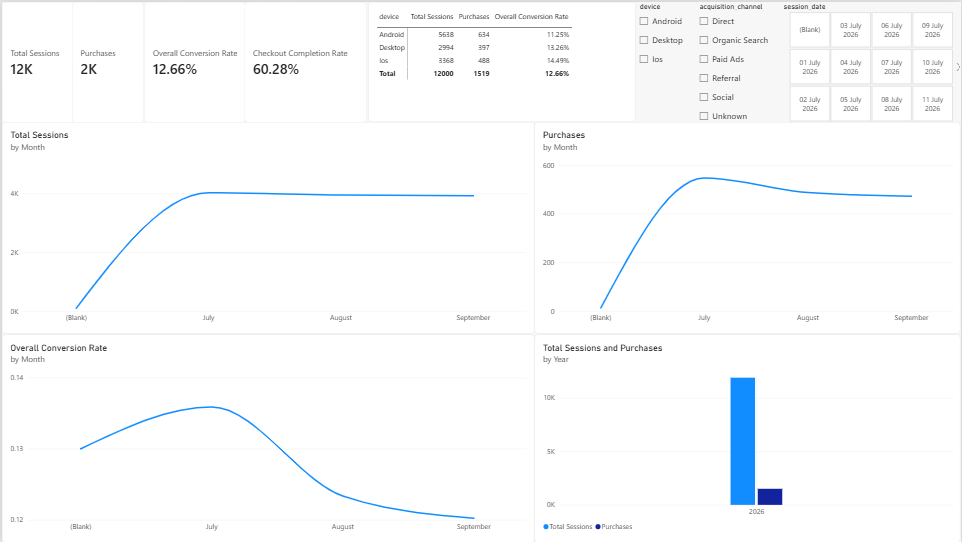

This screenshot's page, from the dashboard's own definition file:
{"tool":"powerbi","page":{"name":"Trend & Diagnostics","canvas":[1920,1080],"ordinal":3},"visuals":[{"type":"cardVisual","fields":{"Data":["SessionFunnel.Total Sessions"]},"box":[0,0,149.1,241.1],"z":0},{"type":"cardVisual","fields":{"Data":["SessionFunnel.Purchases"]},"box":[140,0,144,242],"z":1000},{"type":"cardVisual","fields":{"Data":["SessionFunnel.Overall Conversion Rate"]},"box":[284,0,202.5,241.1],"z":2000},{"type":"cardVisual","fields":{"Data":["SessionFunnel.Checkout Completion Rate"]},"box":[486,0,244.8,241.1],"z":3000},{"type":"lineChart","fields":{"Category":["sessions_clean.session_date.Variation.Date Hierarchy.Month","sessions_clean.session_date.Variation.Date Hierarchy.Day"],"Y":["SessionFunnel.Total Sessions"]},"box":[0,241.1,1065.6,423.3],"z":4000},{"type":"lineChart","fields":{"Category":["sessions_clean.session_date.Variation.Date Hierarchy.Month","sessions_clean.session_date.Variation.Date Hierarchy.Day"],"Y":["SessionFunnel.Overall Conversion Rate"]},"box":[0,664.4,1065.6,416],"z":5000},{"type":"lineChart","fields":{"Category":["sessions_clean.session_date.Variation.Date Hierarchy.Month","sessions_clean.session_date.Variation.Date Hierarchy.Day"],"Y":["SessionFunnel.Purchases"]},"box":[1065.6,241.1,854,423.3],"z":6000},{"type":"clusteredColumnChart","fields":{"Category":["sessions_clean.session_date.Variation.Date Hierarchy.Year","sessions_clean.session_date.Variation.Date Hierarchy.Quarter","sessions_clean.session_date.Variation.Date Hierarchy.Month","sessions_clean.session_date.Variation.Date Hierarchy.Day"],"Y":["SessionFunnel.Total Sessions","SessionFunnel.Purchases"]},"box":[1065.6,664.4,854,416],"z":7000},{"type":"pivotTable","fields":{"Rows":["SessionFunnel.device"],"Values":["SessionFunnel.Total Sessions","SessionFunnel.Purchases","SessionFunnel.Overall Conversion Rate"]},"box":[732.5,0,535,240],"z":8000},{"type":"slicer","fields":{"Values":["sessions_clean.session_date"]},"box":[1555,0,365,240],"z":8001},{"type":"slicer","fields":{"Values":["funnel_events_clean.device"]},"box":[1267.5,0,119.6,149.1],"z":8002},{"type":"slicer","fields":{"Values":["SessionFunnel.acquisition_channel"]},"box":[1388,0,167.5,265],"z":8003}]}

Visuals, with their boxes in screenshot pixels (x1, y1, x2, y2), scaled from the page's 1920x1080 canvas onto the 962x542 screenshot:
cardVisual - SessionFunnel.Total Sessions: box=[0, 0, 75, 121]
cardVisual - SessionFunnel.Purchases: box=[70, 0, 142, 121]
cardVisual - SessionFunnel.Overall Conversion Rate: box=[142, 0, 244, 121]
cardVisual - SessionFunnel.Checkout Completion Rate: box=[244, 0, 366, 121]
lineChart - sessions_clean.session_date.Variation.Date Hierarchy.Month x sessions_clean.session_date.Variation.Date Hierarchy.Day: box=[0, 121, 534, 333]
lineChart - sessions_clean.session_date.Variation.Date Hierarchy.Month x sessions_clean.session_date.Variation.Date Hierarchy.Day: box=[0, 333, 534, 541]
lineChart - sessions_clean.session_date.Variation.Date Hierarchy.Month x sessions_clean.session_date.Variation.Date Hierarchy.Day: box=[534, 121, 961, 333]
clusteredColumnChart - sessions_clean.session_date.Variation.Date Hierarchy.Year x sessions_clean.session_date.Variation.Date Hierarchy.Quarter: box=[534, 333, 961, 541]
pivotTable - SessionFunnel.device x SessionFunnel.Total Sessions: box=[367, 0, 635, 120]
slicer - sessions_clean.session_date: box=[779, 0, 961, 120]
slicer - funnel_events_clean.device: box=[635, 0, 695, 75]
slicer - SessionFunnel.acquisition_channel: box=[695, 0, 779, 133]
